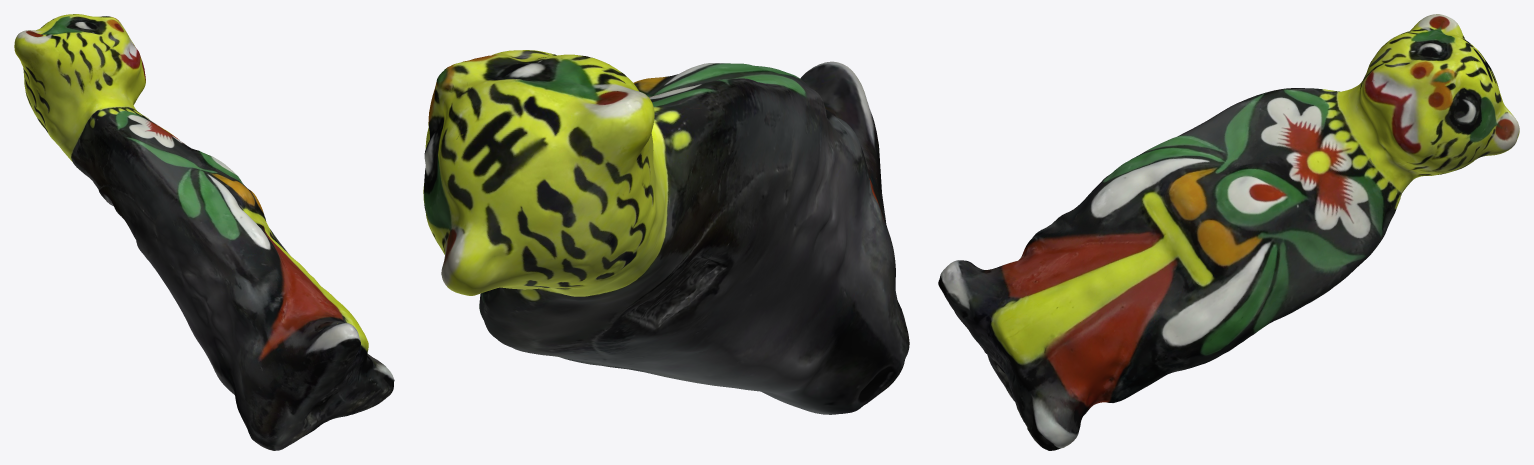
3 views of the same model, side by side, from view 1: azimuth 30°, elevation 25°; view 2: azimuth 150°, elevation 25°; view 3: azimuth 270°, elevation 25° (orthographic). The views are drawn at different scales.
Size of the model in its own units: 0.3919 by 0.5483 by 0.8284.
Materials: 1 (1 with a texture image).
